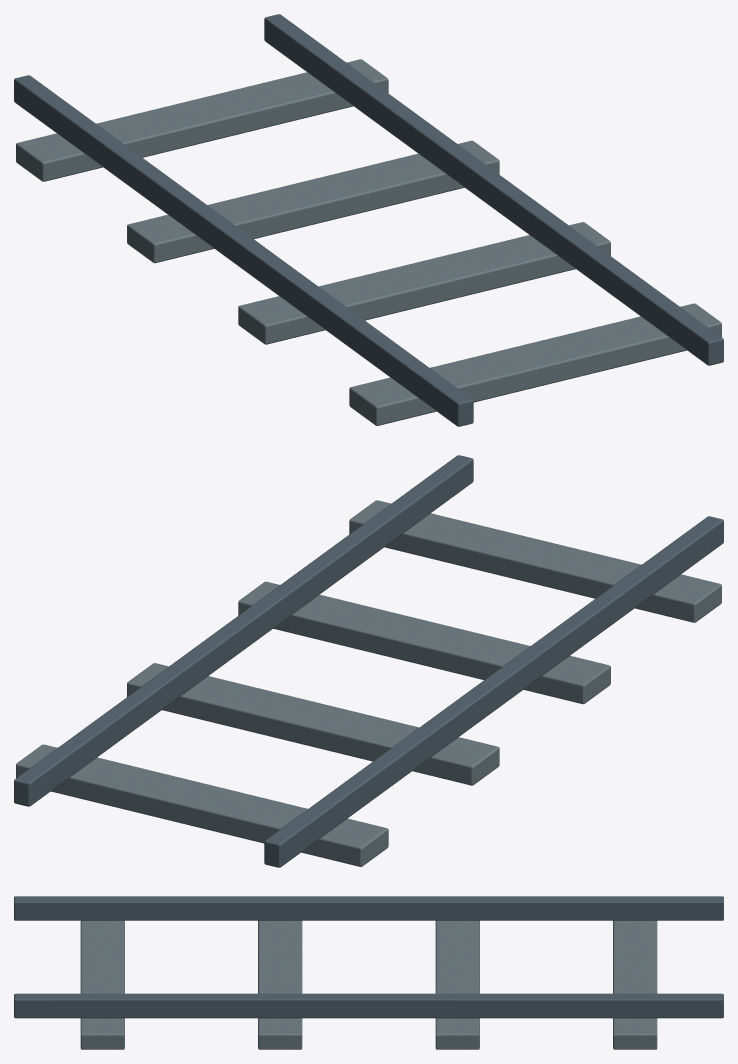
The model's file is dwarven-runeforge-dungeon-dwarven-runeforge-dungeon-tr-5e6e6279__28601.glb.
3 views of the same model, one above another, from view 1: azimuth 30°, elevation 25°; view 2: azimuth 150°, elevation 25°; view 3: azimuth 270°, elevation 25° (orthographic). The views are drawn at different scales.
Parts seen in each view (by area): view 1: dwarven-runeforge-dungeon-track-straight; view 2: dwarven-runeforge-dungeon-track-straight; view 3: dwarven-runeforge-dungeon-track-straight.
Part boxes in pixels (x1=…): dwarven-runeforge-dungeon-track-straight: x1=14, y1=14, x2=723, y2=426; dwarven-runeforge-dungeon-track-straight: x1=14, y1=455, x2=723, y2=867; dwarven-runeforge-dungeon-track-straight: x1=14, y1=896, x2=723, y2=1049.
Size of the model in its own units: 1.8 by 0.22 by 4.
2 materials, 1 textured.
